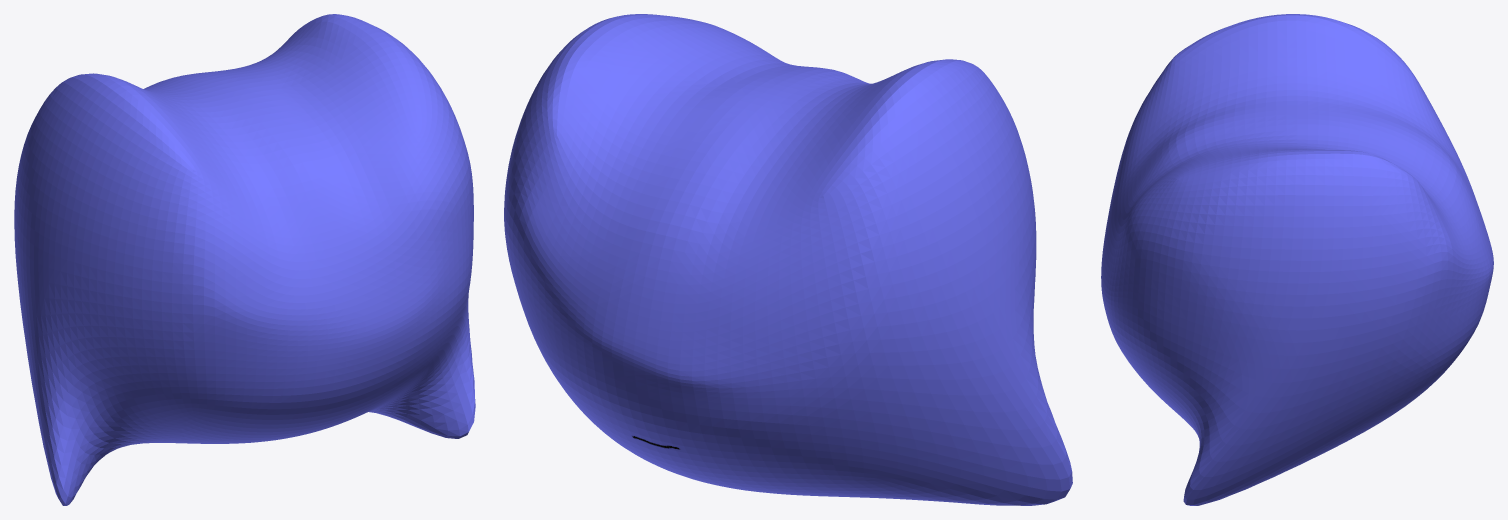
Rendered from blueguy.obj.
3 renders of one model, left to right at view 1: azimuth 30°, elevation 25°; view 2: azimuth 150°, elevation 25°; view 3: azimuth 270°, elevation 25°, orthographic. The views are drawn at different scales.
Visible parts, largest first — view 1: blueguy_Cube.001; view 2: blueguy_Cube.001; view 3: blueguy_Cube.001.
Boxes of the visible parts, x1=… form: blueguy_Cube.001: x1=14, y1=14, x2=475, y2=505; blueguy_Cube.001: x1=504, y1=14, x2=1072, y2=505; blueguy_Cube.001: x1=1101, y1=14, x2=1493, y2=505.
Size of the model in its own units: 1.82 by 1.58 by 1.56.
